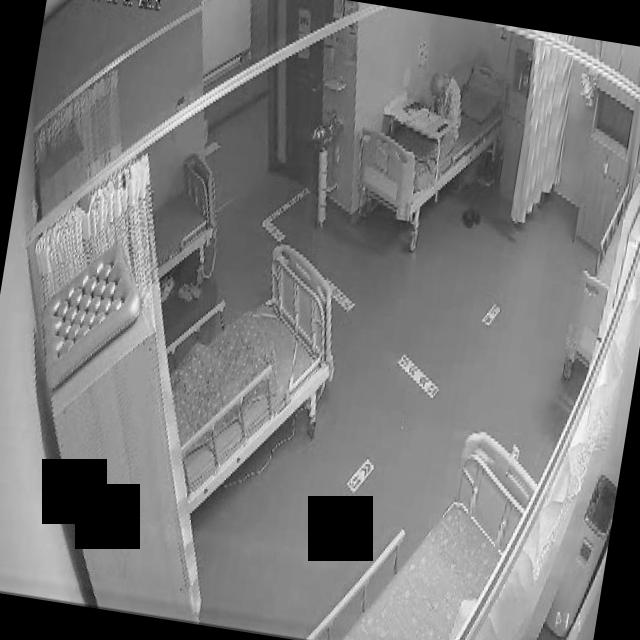bed: (152, 232, 346, 526), (306, 408, 545, 640), (350, 51, 512, 233), (143, 150, 227, 288)
patient: (422, 67, 470, 146)
sit: (422, 66, 471, 146)
